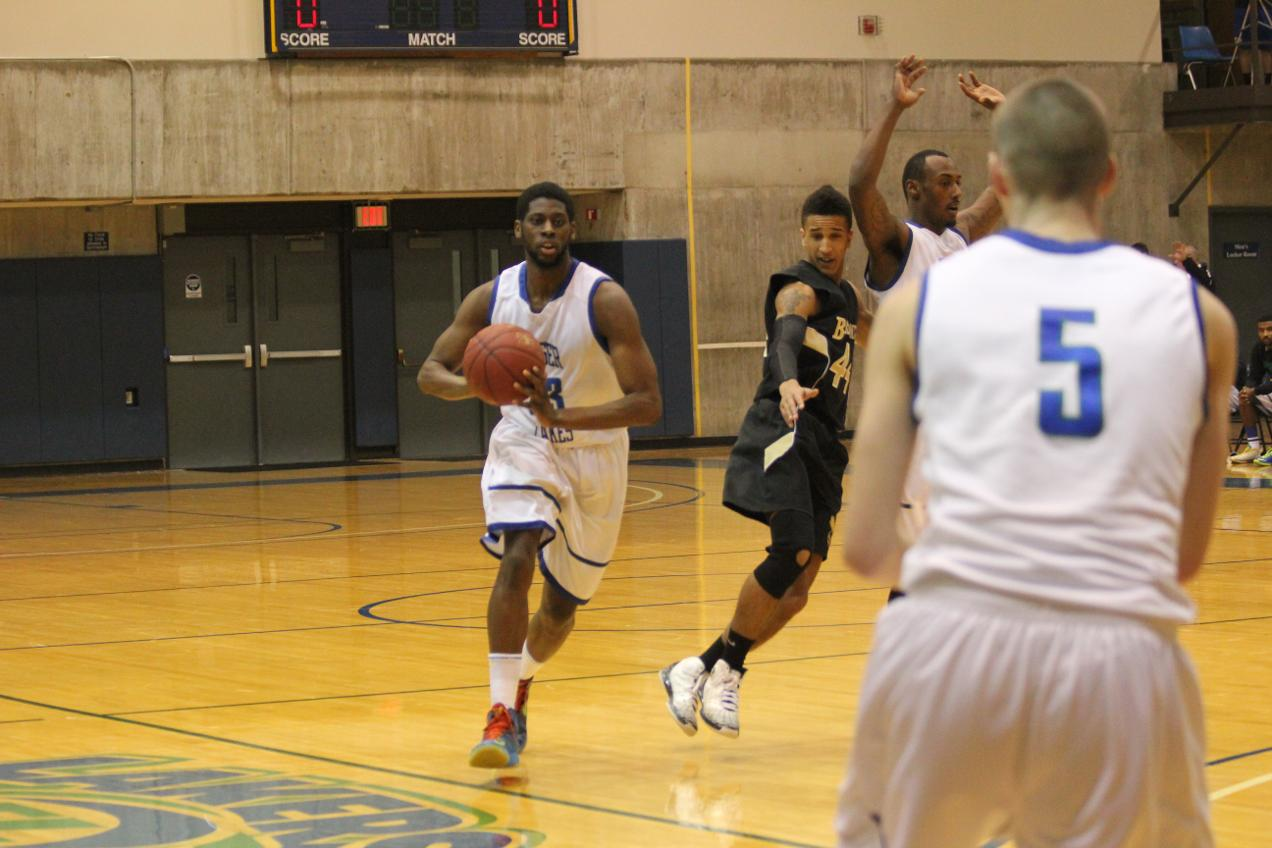ball: (461, 325, 546, 409)
player: (847, 72, 1225, 848), (415, 180, 661, 771), (666, 183, 854, 737), (854, 54, 1014, 334)
